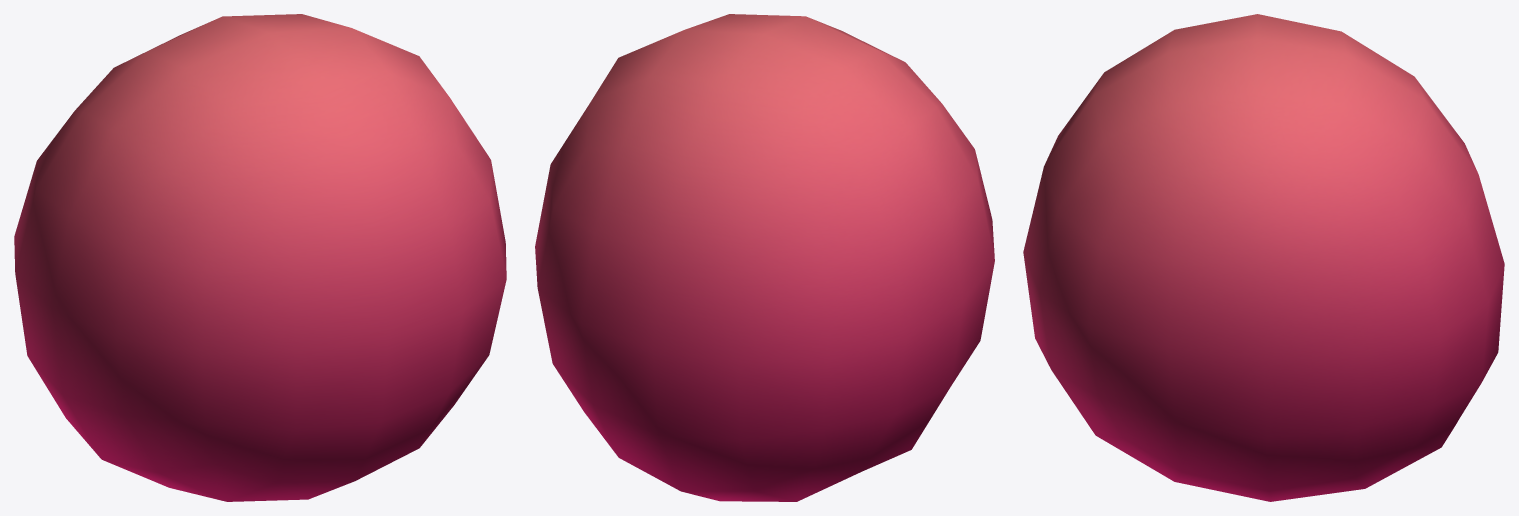
The model's file is SuspensionMarkDotThree.dae.
3 views of the same model, side by side, from view 1: azimuth 30°, elevation 25°; view 2: azimuth 150°, elevation 25°; view 3: azimuth 270°, elevation 25° (orthographic). The views are drawn at different scales.
Visible parts, largest first — view 1: Cube_006; view 2: Cube_006; view 3: Cube_006.
Part boxes in pixels (x1=…): Cube_006: x1=14, y1=14, x2=506, y2=501; Cube_006: x1=535, y1=14, x2=994, y2=501; Cube_006: x1=1023, y1=14, x2=1504, y2=501.
Size of the model in its own units: 0.5974 by 0.6102 by 0.6196.
Materials: 1 (1 with a texture image).
